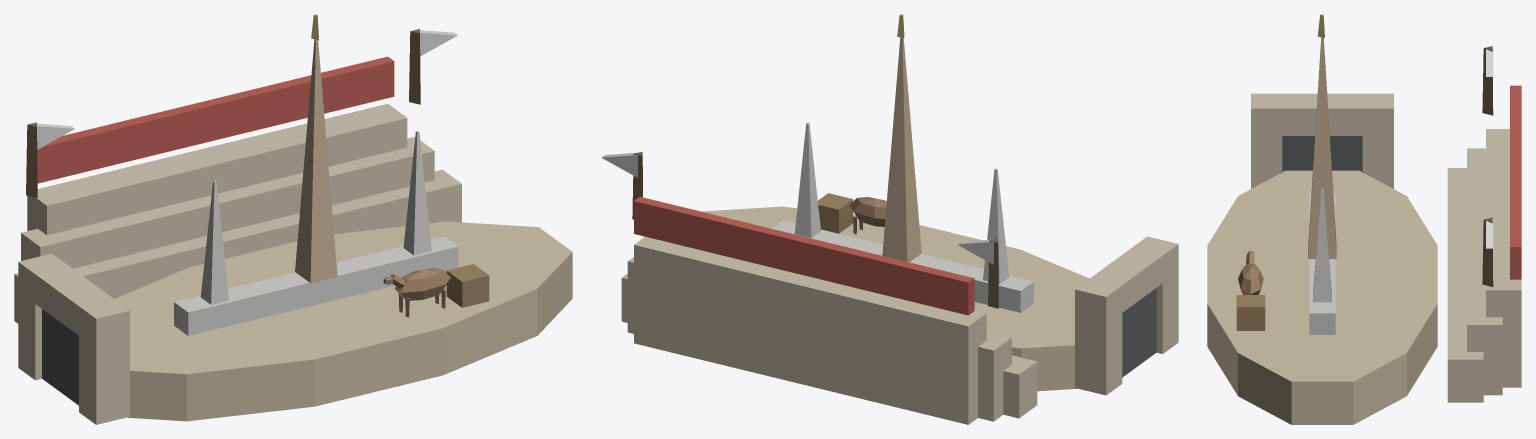
File: national-circus-maximus.glb
The picture shows the model from 3 angles, left to right: view 1: azimuth 30°, elevation 25°; view 2: azimuth 150°, elevation 25°; view 3: azimuth 270°, elevation 25°; orthographic projection. The views are drawn at different scales.
Visible parts, largest first — view 1: LOD0; view 2: LOD0; view 3: LOD0.
Boxes of the visible parts, x1,y1,x2,y2 form: LOD0: (14,14,572,424); LOD0: (601,14,1178,424); LOD0: (1207,14,1521,424).
Size of what is drawn, in the model's own units: 0.4425 by 0.28 by 0.2636.
